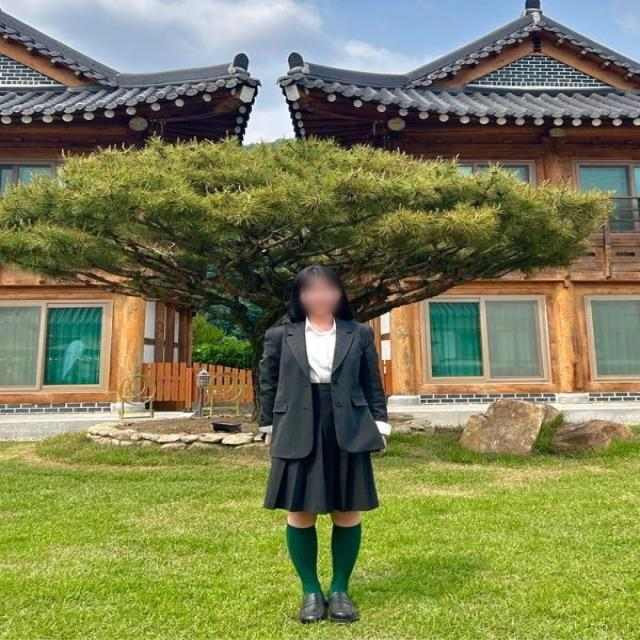blazer: (258, 316, 386, 458)
skirt: (264, 383, 379, 515)
